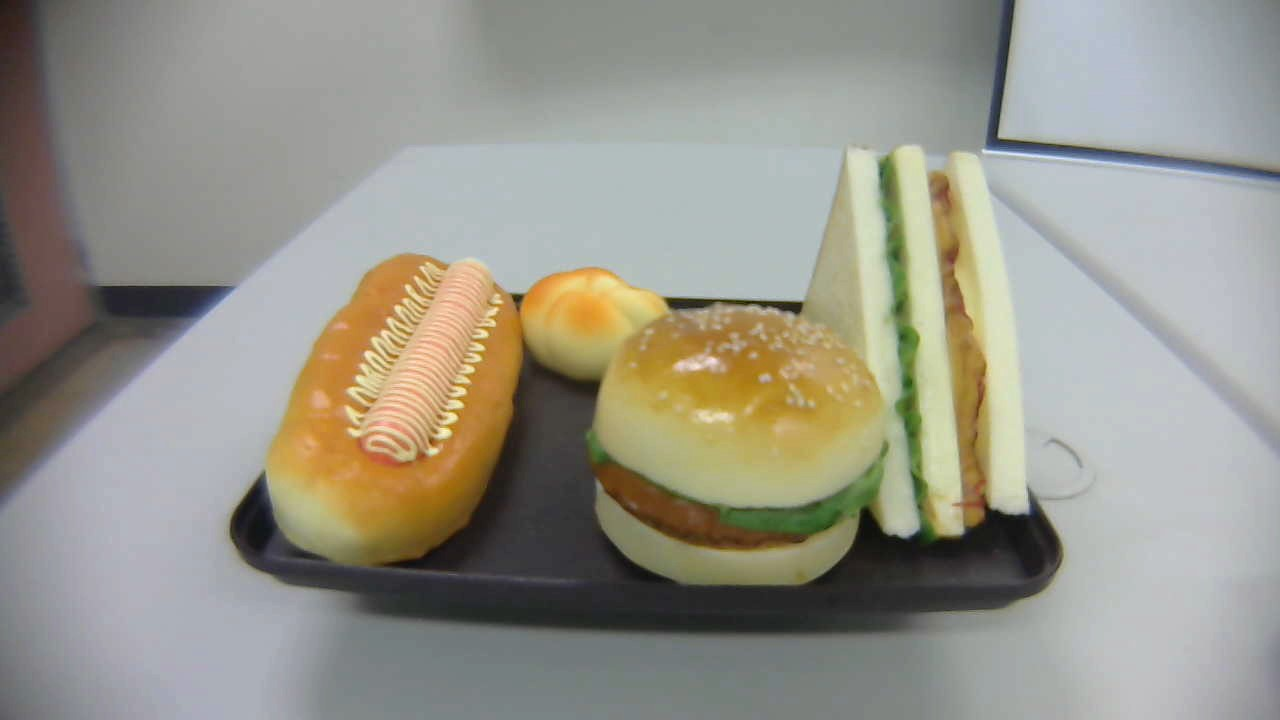hamburger: (586, 302, 890, 598)
hot dog: (263, 253, 524, 566)
sandwich: (795, 143, 1031, 547)
twist bread: (519, 266, 686, 383)
